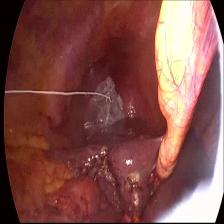Specimen Bag: (80, 71, 127, 138)
